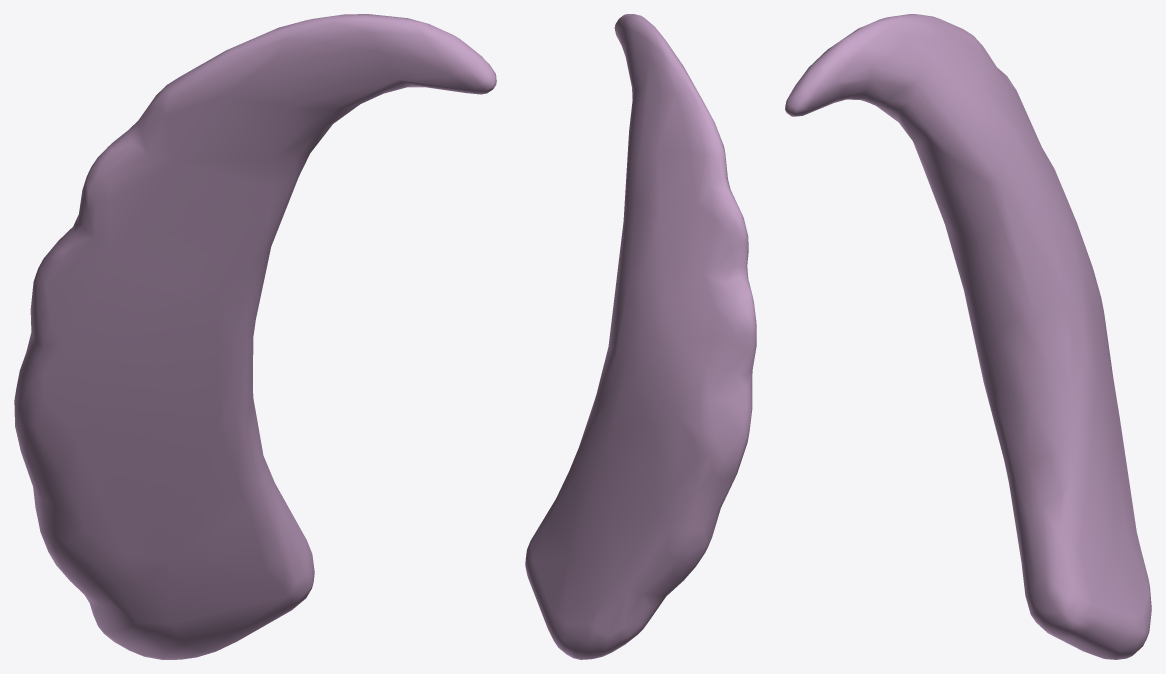
The picture shows the model from 3 angles, left to right: view 1: azimuth 30°, elevation 25°; view 2: azimuth 150°, elevation 25°; view 3: azimuth 270°, elevation 25°; orthographic projection. The views are drawn at different scales.
Parts seen in each view (by area): view 1: 右侧海马; view 2: 右侧海马; view 3: 右侧海马.
Boxes of the visible parts, box(x1,y1,x2,y2) form: 右侧海马: box(14, 14, 496, 659); 右侧海马: box(525, 14, 756, 659); 右侧海马: box(785, 14, 1151, 659).
Size of the model in its own units: 0.0286 by 0.0613 by 0.0314.
